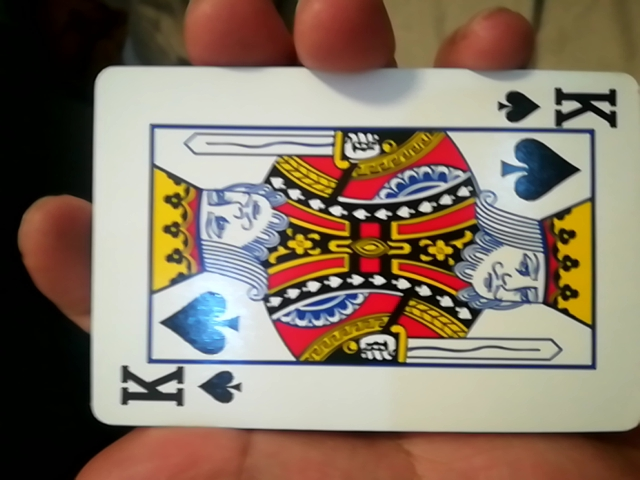ht k: (71, 73, 634, 442)
